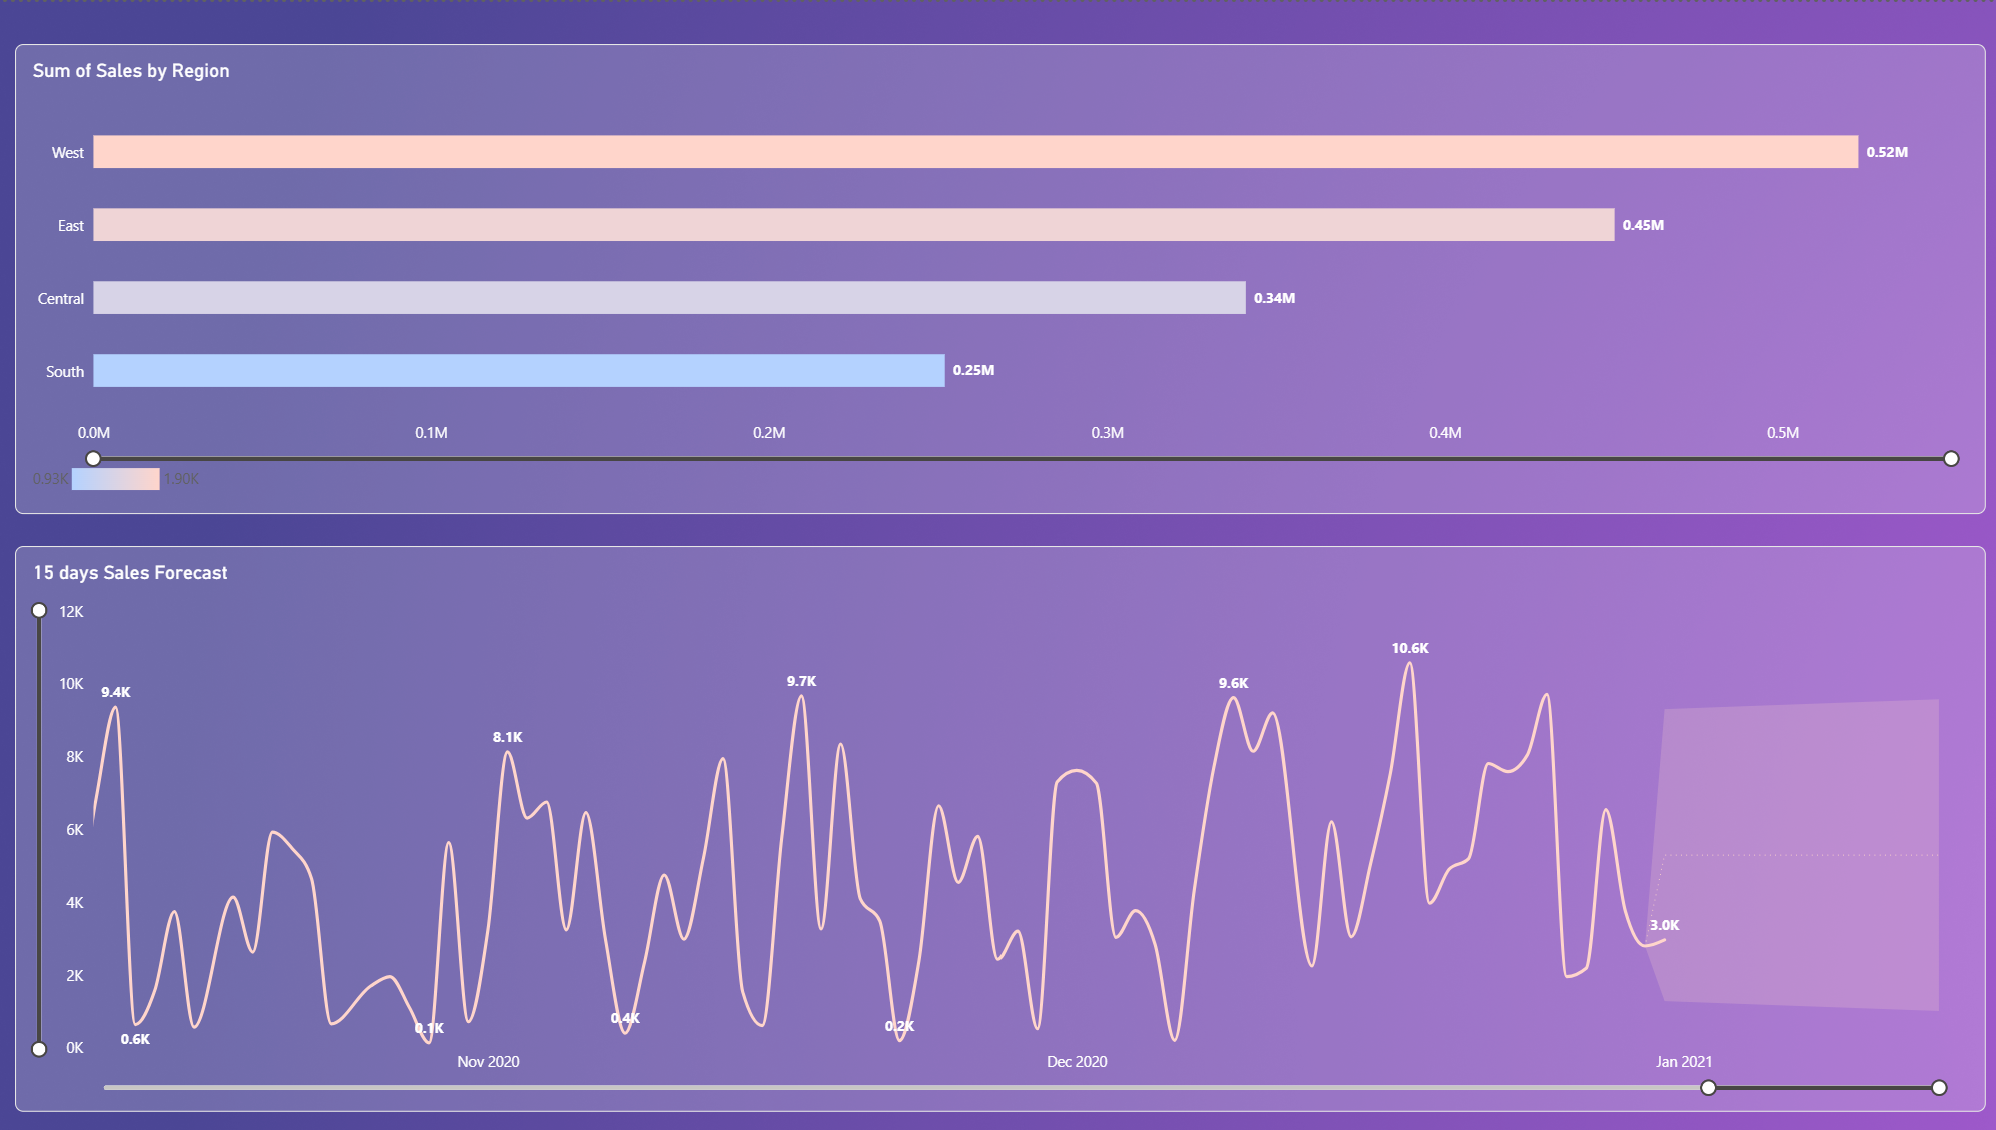

The page's visual inventory and layout, read from the dashboard file:
{"tool":"powerbi","page":{"name":"Forecast","canvas":[1920,1080],"ordinal":1},"visuals":[{"type":"lineChart","title":"15 days Sales Forecast","fields":{"Category":["SuperStore_Sales_Dataset.Order Date"],"Y":["Sum(SuperStore_Sales_Dataset.Sales)"]},"box":[22.9,520.2,1883.7,541.2],"z":0},{"type":"barChart","fields":{"Category":["SuperStore_Sales_Dataset.Region"],"Y":["Sum(SuperStore_Sales_Dataset.Sales)"]},"box":[22.9,40.2,1883.7,449.4],"z":1}]}

Visuals, with their boxes in screenshot pixels (x1, y1, x2, y2), scaled from the page's 1920x1080 canvas onto the 1996x1130 screenshot:
"15 days Sales Forecast" lineChart: rect(24, 544, 1982, 1111)
barChart - SuperStore_Sales_Dataset.Region x Sum(SuperStore_Sales_Dataset.Sales): rect(24, 42, 1982, 512)
